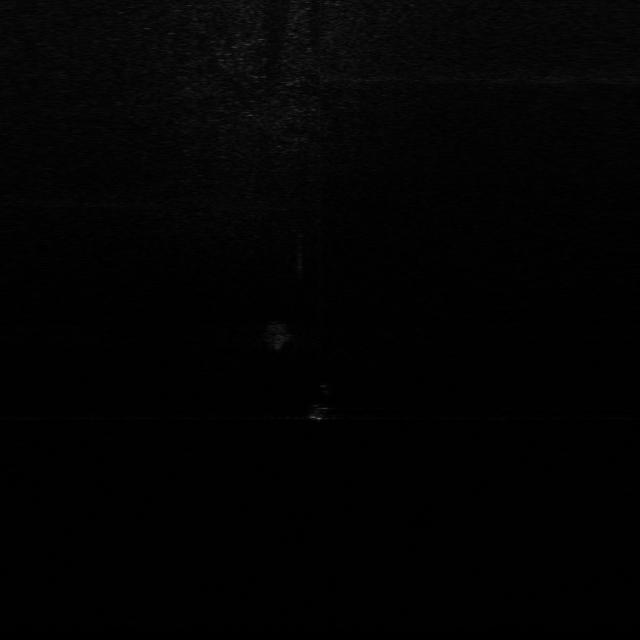circle cage: (259, 311, 297, 354)
tyre: (302, 378, 339, 423)
